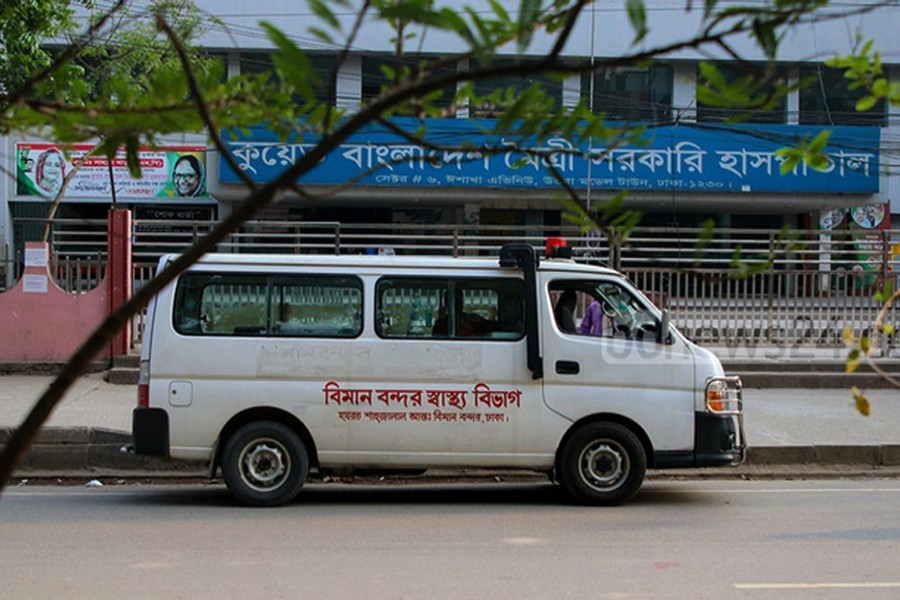ambulance: (131, 233, 749, 507)
